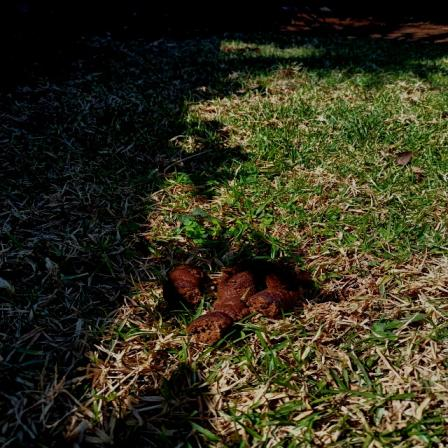dog-poop: (163, 254, 306, 342)
